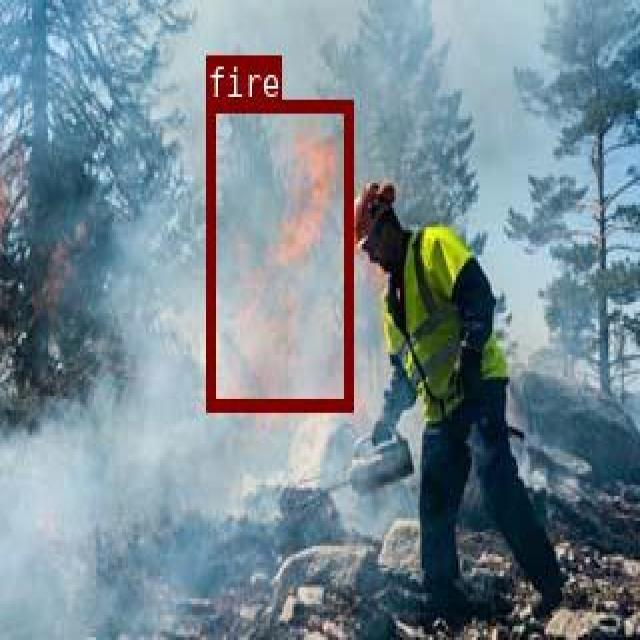fire: (206, 99, 350, 409)
